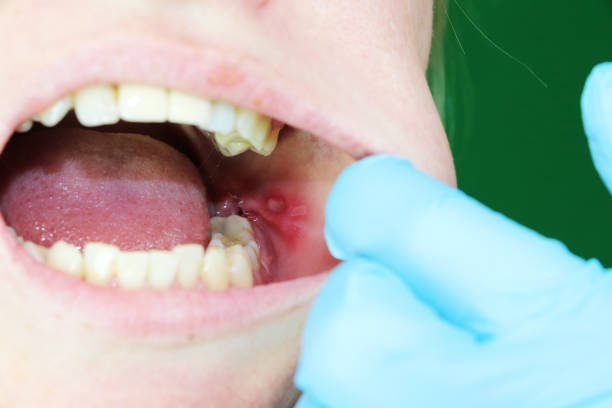Ulcer: (263, 191, 297, 219)
